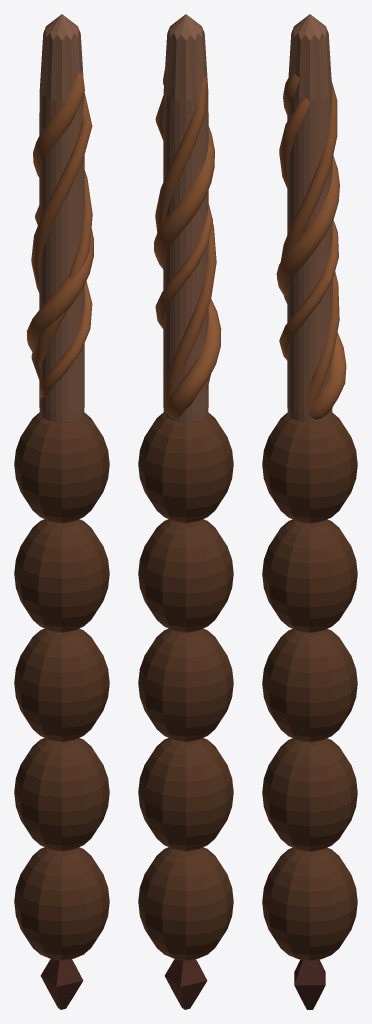
The model's file is Wand 275.glb.
3 renders of one model, left to right at view 1: azimuth 30°, elevation 25°; view 2: azimuth 210°, elevation 25°; view 3: azimuth 270°, elevation 25°, orthographic.
Visible parts, largest first — view 1: GeneratedWand; view 2: GeneratedWand; view 3: GeneratedWand.
Boxes of the visible parts, left/top/right/bottom form: GeneratedWand: left=14, top=14, right=109, bottom=1009; GeneratedWand: left=138, top=14, right=233, bottom=1009; GeneratedWand: left=262, top=14, right=357, bottom=1009.
Bounding box in the file's own units: 0.0447 × 0.5156 × 0.0449.
